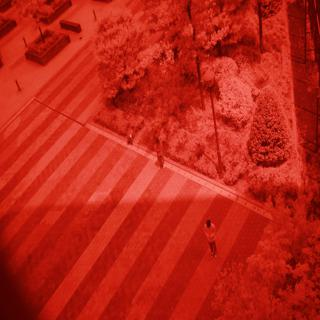person: (198, 215, 225, 260)
